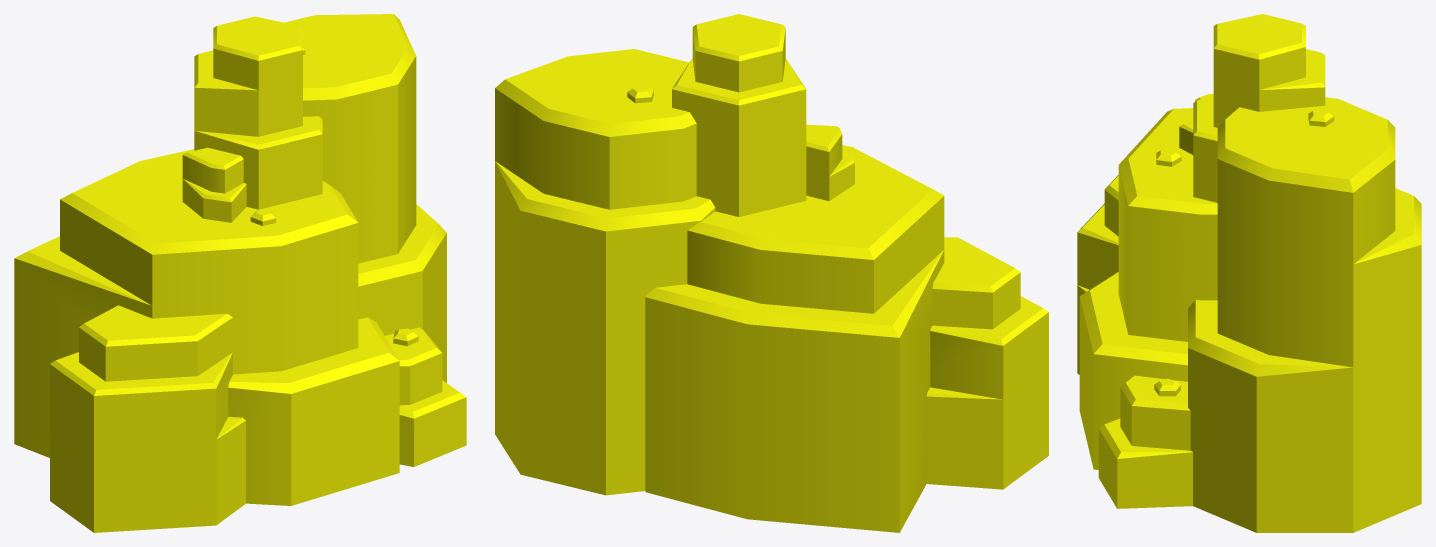
The model's file is kaykit-rock-1-m-color-1.glb.
3 views of the same model, side by side, from view 1: azimuth 30°, elevation 25°; view 2: azimuth 150°, elevation 25°; view 3: azimuth 270°, elevation 25° (orthographic). The views are drawn at different scales.
Parts seen in each view (by area): view 1: Rock_1_M_Color1; view 2: Rock_1_M_Color1; view 3: Rock_1_M_Color1.
Part boxes in pixels (x1,y1,x2,y2): Rock_1_M_Color1: (14,14,466,532); Rock_1_M_Color1: (495,14,1048,532); Rock_1_M_Color1: (1077,14,1421,532).
Size of the model in its own units: 3.91 by 3.52 by 2.71.
